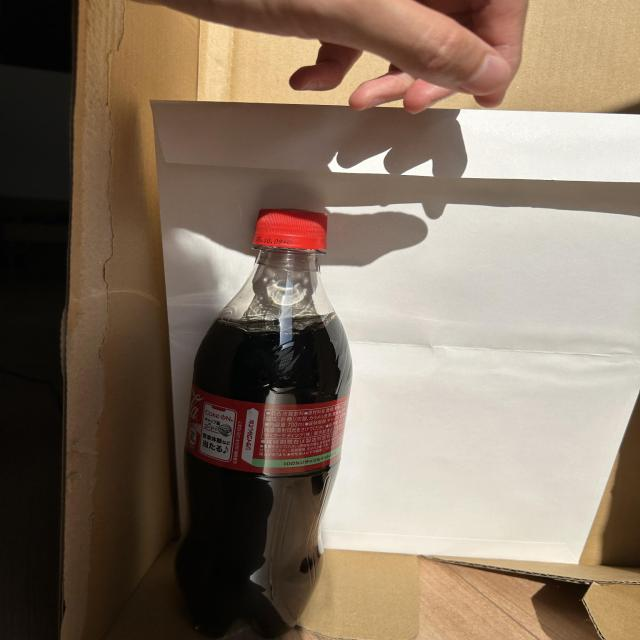high: (175, 208, 352, 640)
